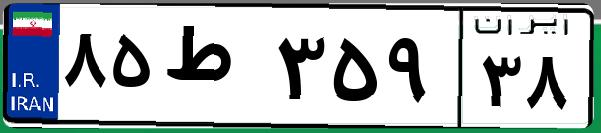3: (270, 28, 330, 110), (475, 38, 525, 113)
5: (330, 28, 385, 110), (110, 28, 158, 98)
8: (57, 26, 110, 100), (525, 38, 570, 115)
9: (385, 28, 445, 110)
ط: (158, 20, 270, 120)
